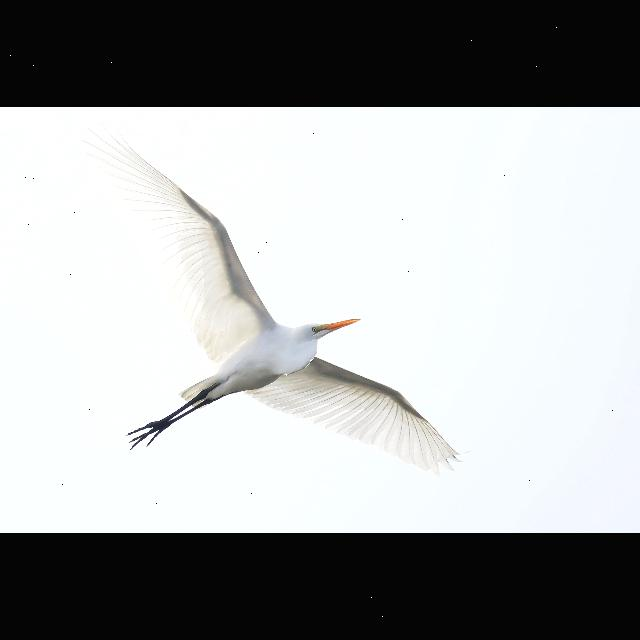egret: (72, 117, 462, 485)
